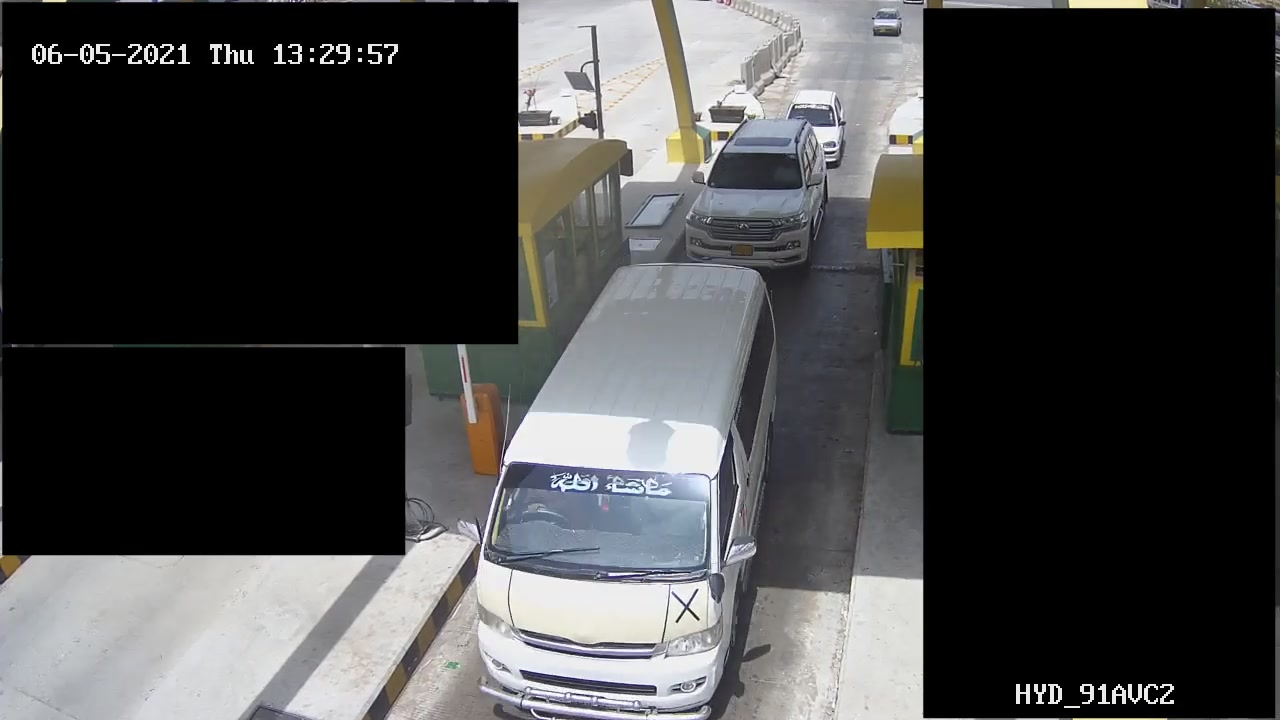F2: (465, 257, 799, 717)
